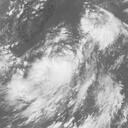cyclone: (37, 46, 76, 89)
